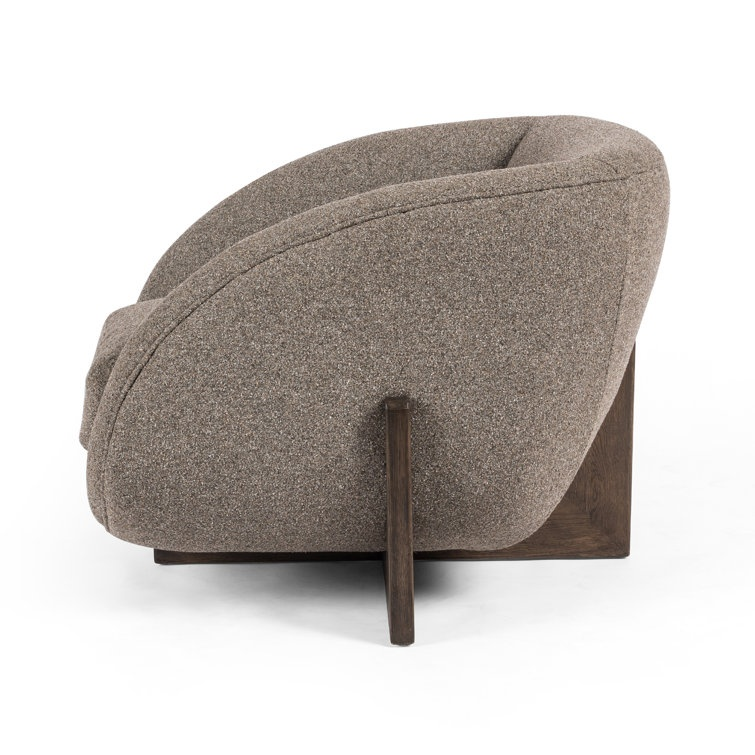obstacle: (81, 116, 668, 561)
